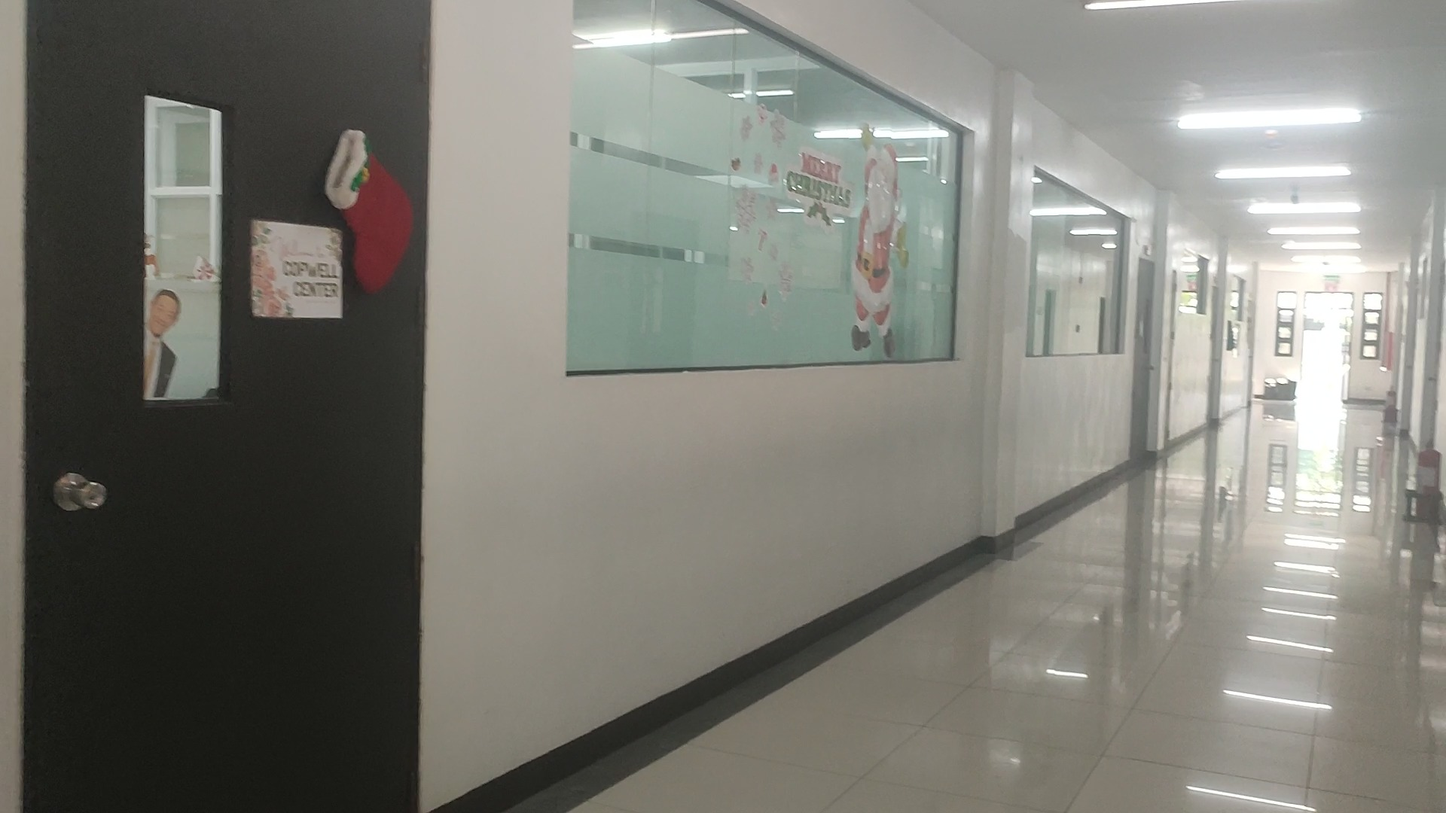door: (18, 0, 432, 813)
